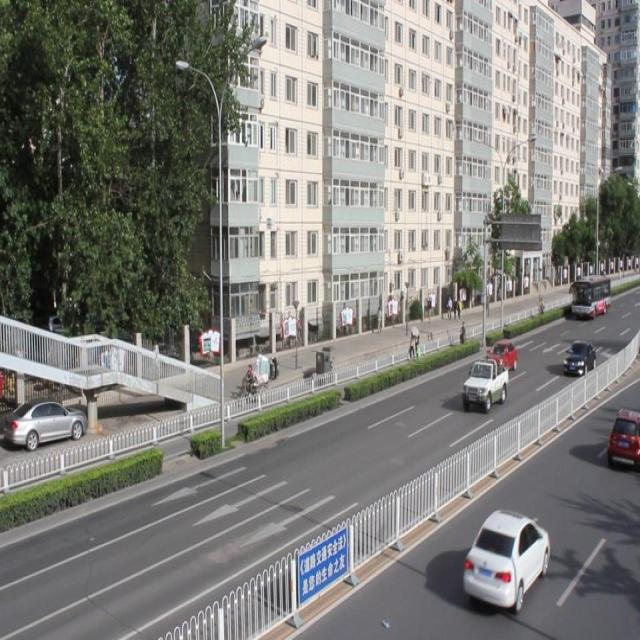car: (461, 506, 549, 606), (461, 357, 507, 408), (604, 405, 640, 468), (562, 338, 594, 378), (484, 339, 516, 372)
